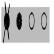correct: (17, 11, 22, 31)
not correct: (2, 1, 10, 44)
